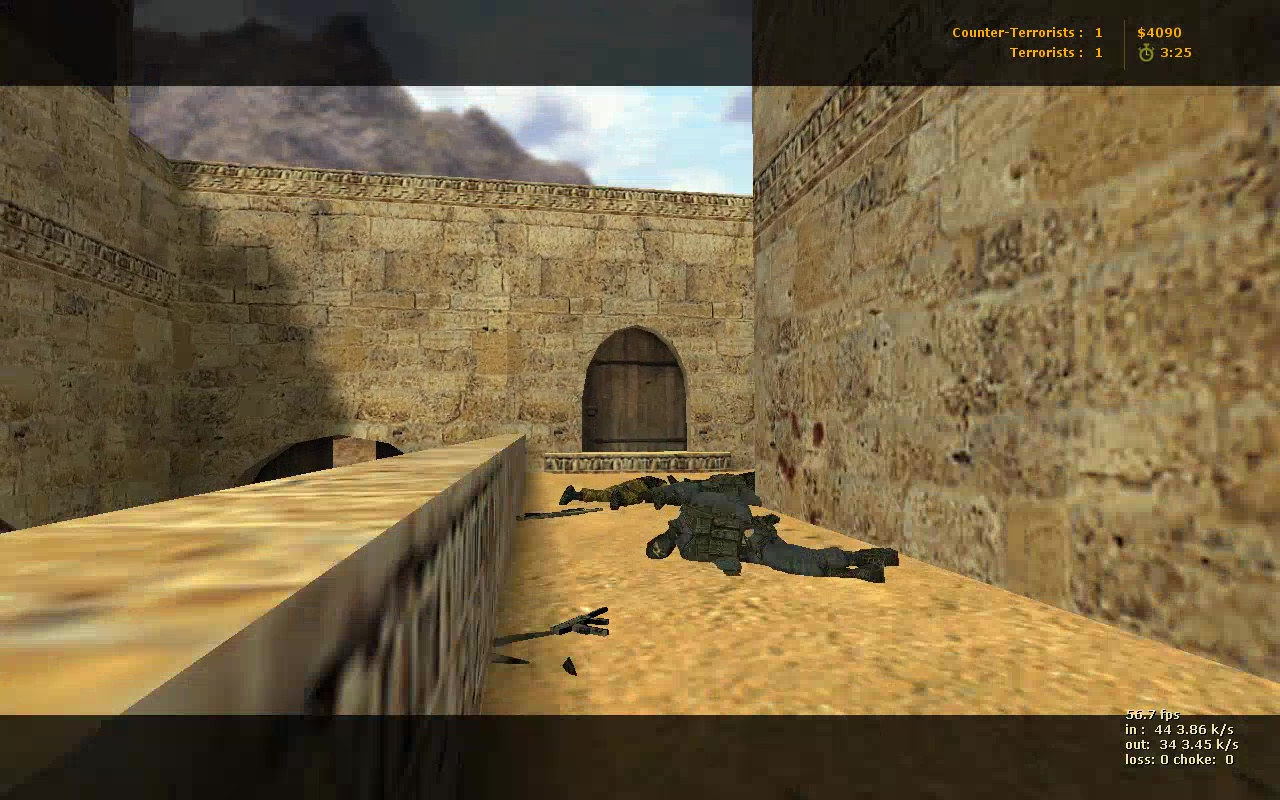dead: (647, 491, 897, 583), (651, 471, 762, 507), (562, 479, 665, 510)
